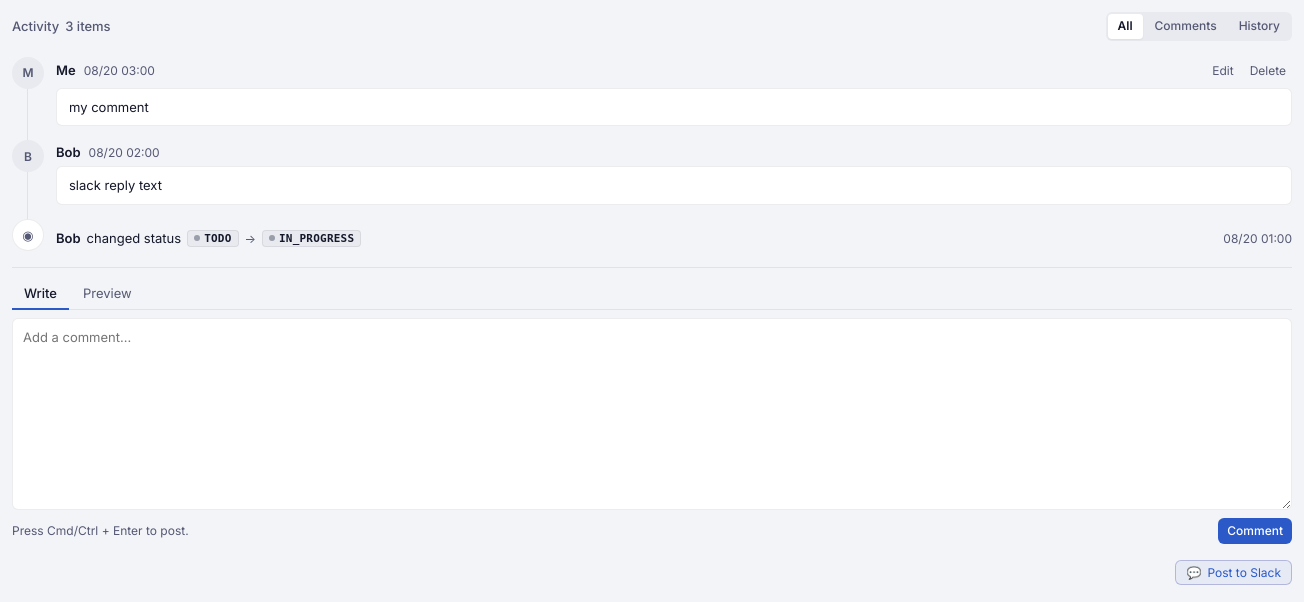
Test: ActionActivity comments › hides comments on the History tab and keeps them on the Comments tab
The image size is (1304, 602).
Expected: the element with test id "activity-comment-c-mine" is shown, [12, 53, 1292, 130]
Click the tab with test id "activity-tab-history": (1259, 26) [1229, 14, 1290, 39]
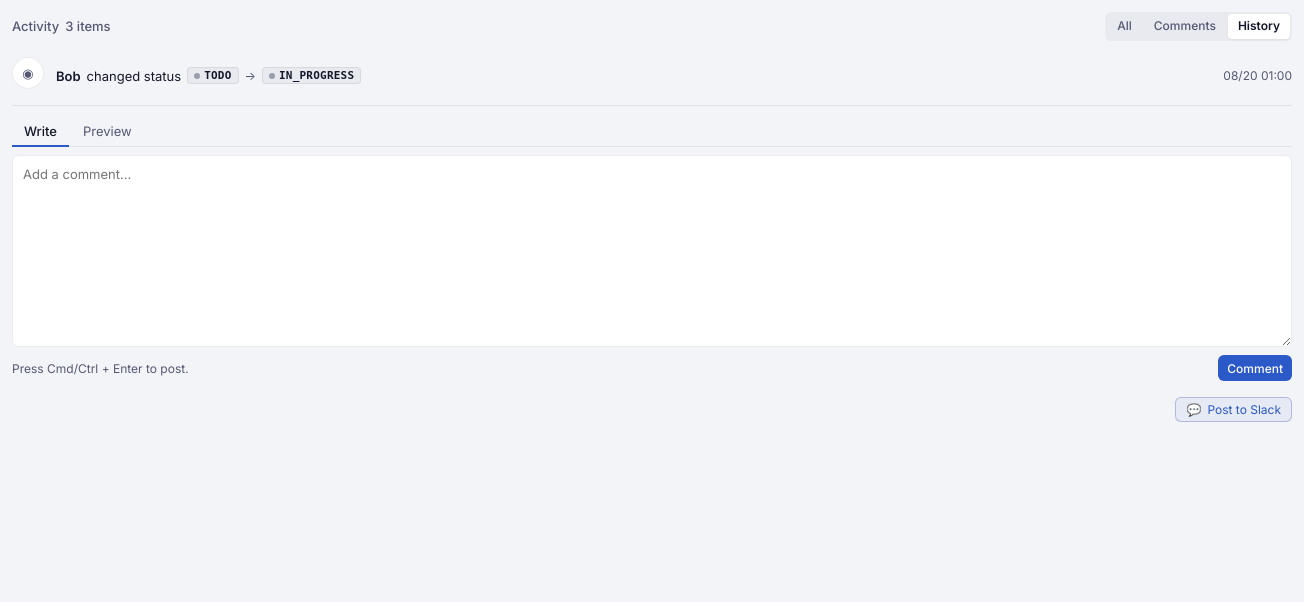
Expected: the element with test id "activity-event-status_changed" is shown, [12, 53, 1292, 93]
Result: the element with test id "activity-comment-c-mine" is gone
Click the tab with test id "activity-tab-comments": (1185, 26) [1144, 14, 1226, 39]
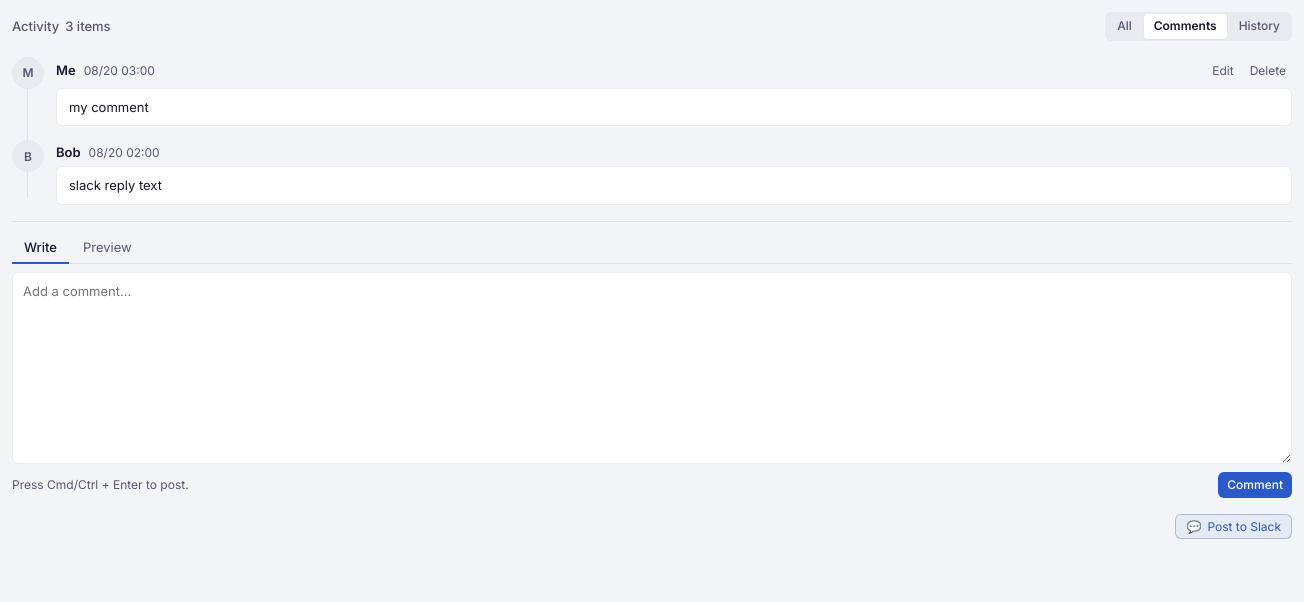
Result: the element with test id "activity-comment-c-mine" is shown at [12, 53, 1292, 130]
Result: the element with test id "activity-event-status_changed" is gone
